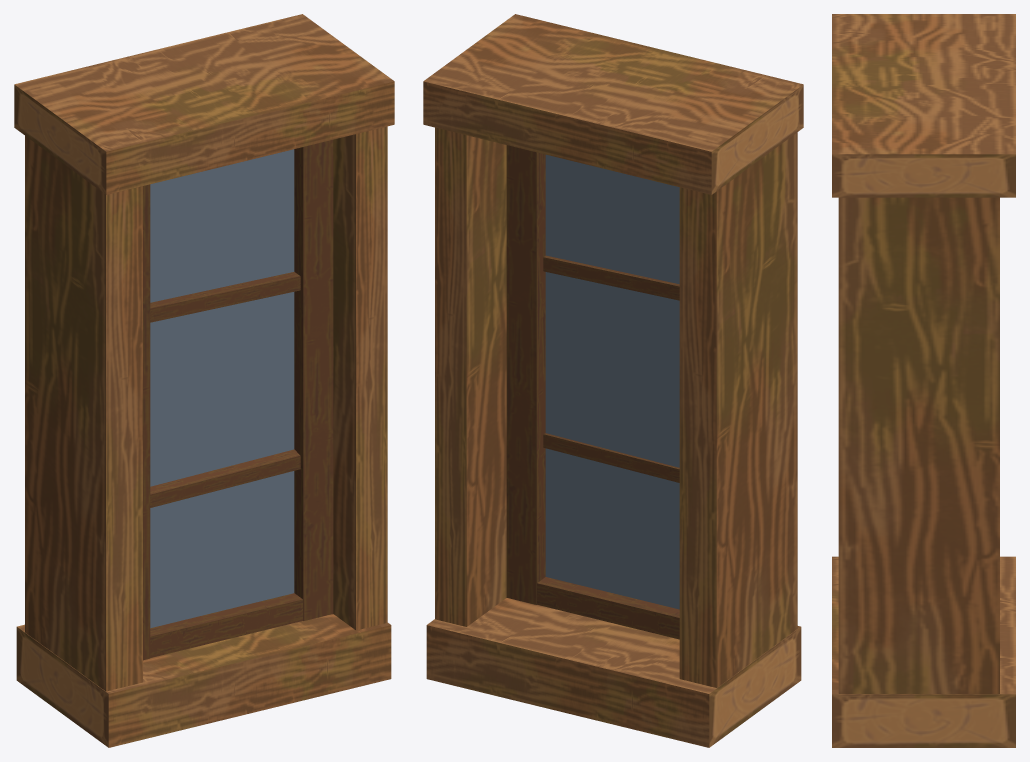
File: Window_Thin_Flat1.gltf
3 renders of one model, left to right at view 1: azimuth 30°, elevation 25°; view 2: azimuth 150°, elevation 25°; view 3: azimuth 270°, elevation 25°, orthographic.
Visible parts, largest first — view 1: Window_Thin_Flat1; view 2: Window_Thin_Flat1; view 3: Window_Thin_Flat1.
Part boxes in pixels (x1=…): Window_Thin_Flat1: x1=14, y1=14, x2=394, y2=747; Window_Thin_Flat1: x1=423, y1=14, x2=803, y2=747; Window_Thin_Flat1: x1=832, y1=14, x2=1015, y2=747.
Bounding box in the file's own units: 0.788 × 1.56 × 0.4357.
Materials: 2 (1 with a texture image).
